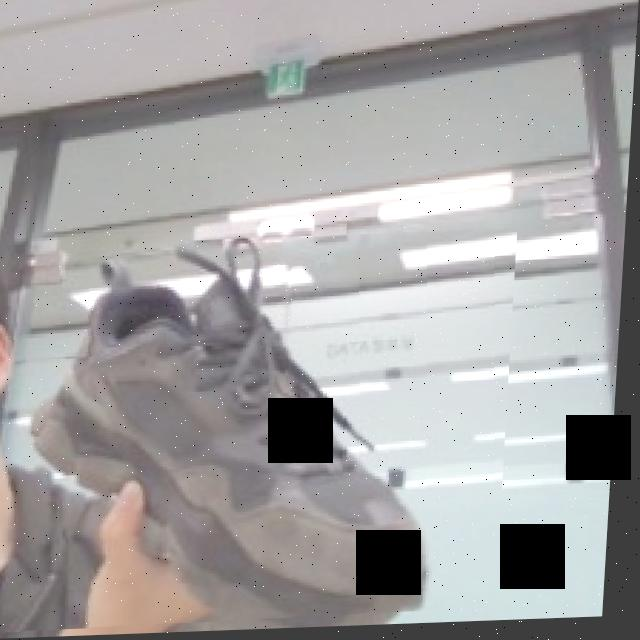shoe: (0, 233, 521, 634)
